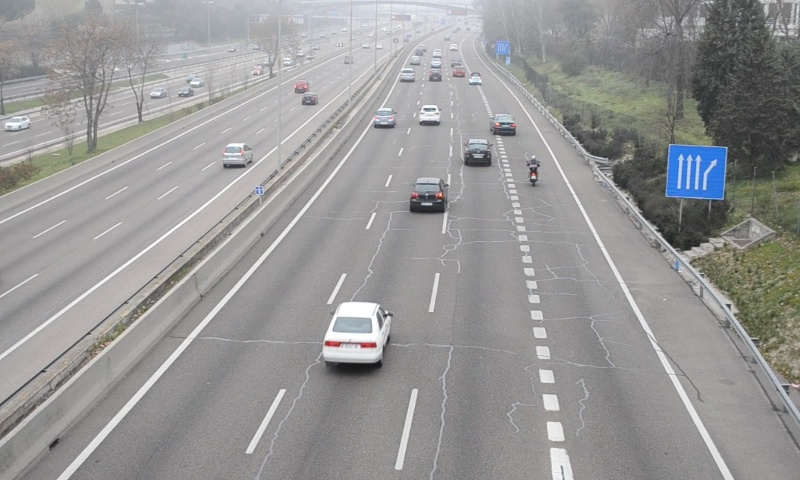car: (321, 302, 392, 363), (410, 178, 447, 212), (463, 139, 492, 166), (491, 114, 516, 134), (373, 107, 396, 128), (418, 105, 442, 124), (400, 67, 415, 84)
motorcycle: (526, 154, 541, 189)
